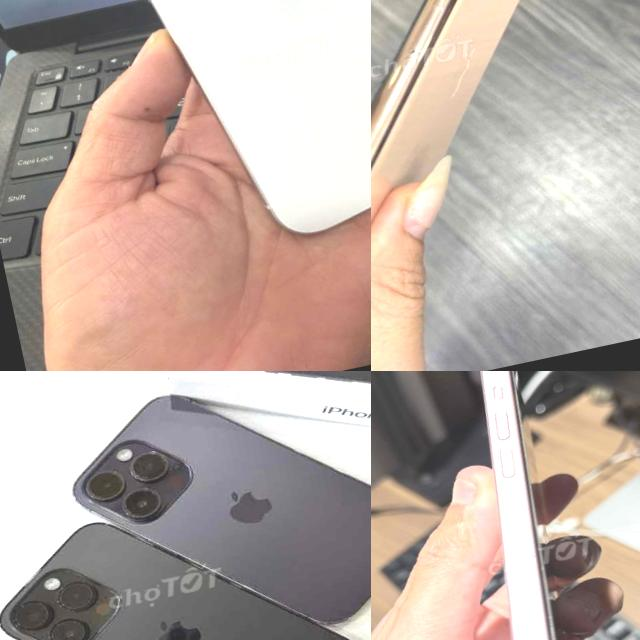gen_11: (371, 0, 640, 334)
gen_15: (60, 0, 371, 265), (414, 371, 626, 640)
